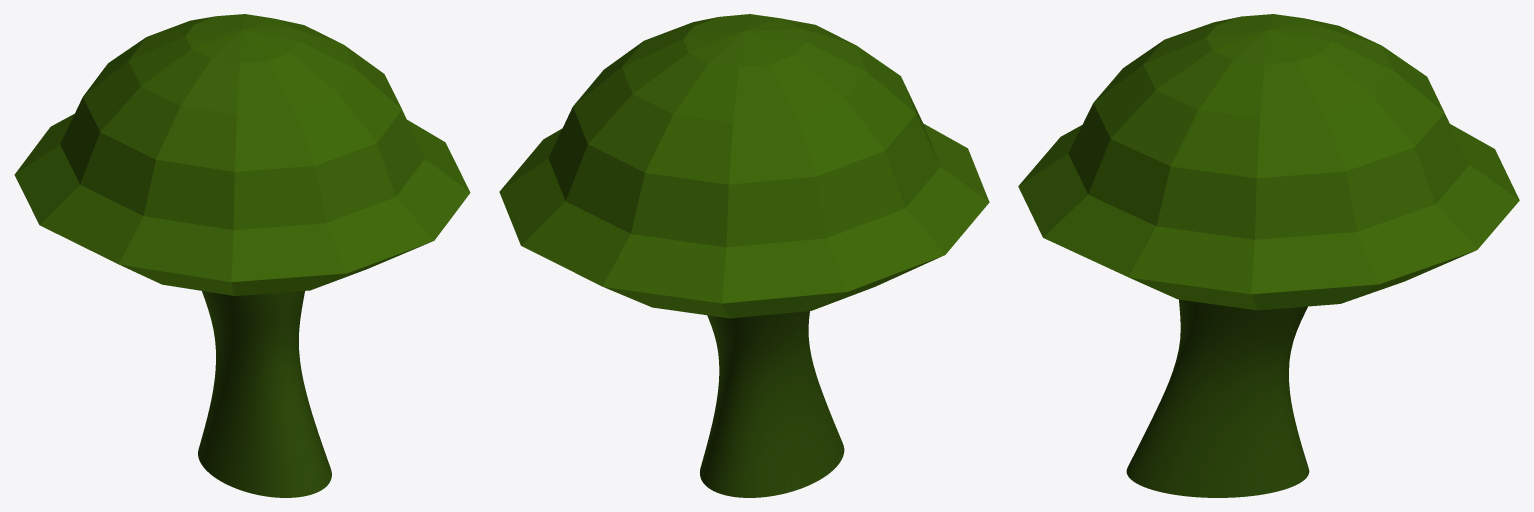
The picture shows the model from 3 angles, left to right: view 1: azimuth 30°, elevation 25°; view 2: azimuth 150°, elevation 25°; view 3: azimuth 270°, elevation 25°; orthographic projection. The views are drawn at different scales.
Parts seen in each view (by area): view 1: facet, stalk; view 2: facet, stalk; view 3: facet, stalk.
Part boxes in pixels (x1=…): facet: x1=14, y1=14, x2=470, y2=295; stalk: x1=198, y1=291, x2=331, y2=497; facet: x1=499, y1=14, x2=989, y2=318; stalk: x1=700, y1=311, x2=844, y2=497; facet: x1=1018, y1=14, x2=1519, y2=310; stalk: x1=1126, y1=299, x2=1309, y2=497.
Size of the model in its own units: 0.0758 by 0.0774 by 0.0796.
